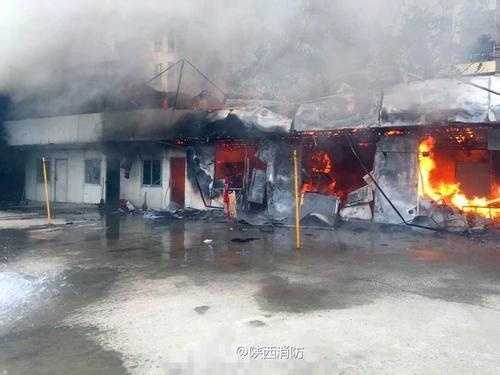fire: (413, 134, 500, 225), (301, 148, 338, 196)
